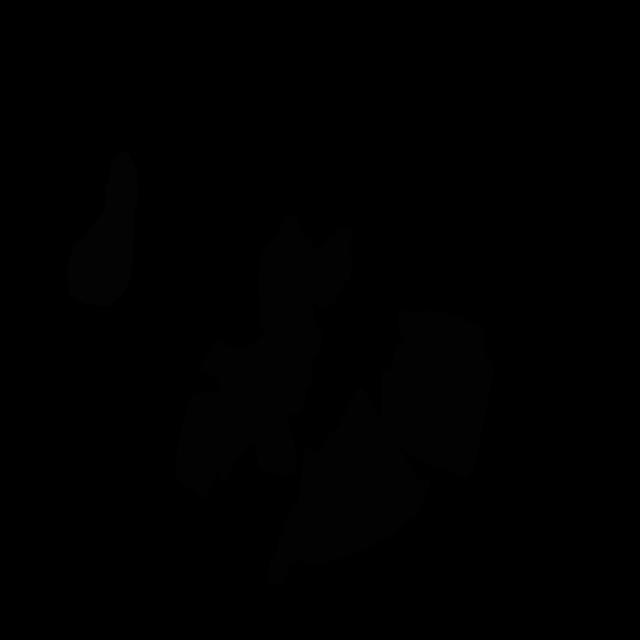cardboard: (174, 215, 352, 499), (266, 388, 430, 585), (381, 310, 494, 479)
metal: (67, 152, 139, 307)
